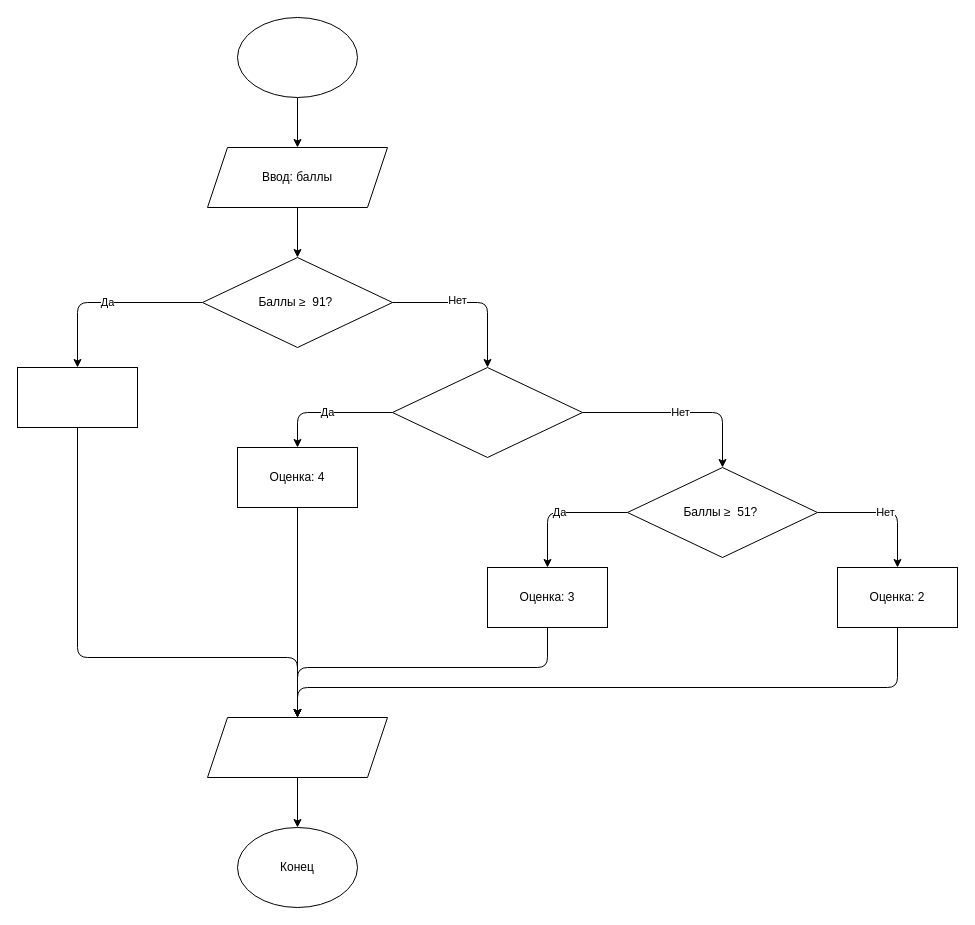
This 975x925 diagram has some shape labels left out. Each missing label, with the centre of its shape:
Баллы ≥ 71?: (487,412)
Вывод: баллы: (297,747)
Начала: (297,57)
Оценка: 5: (77,397)
